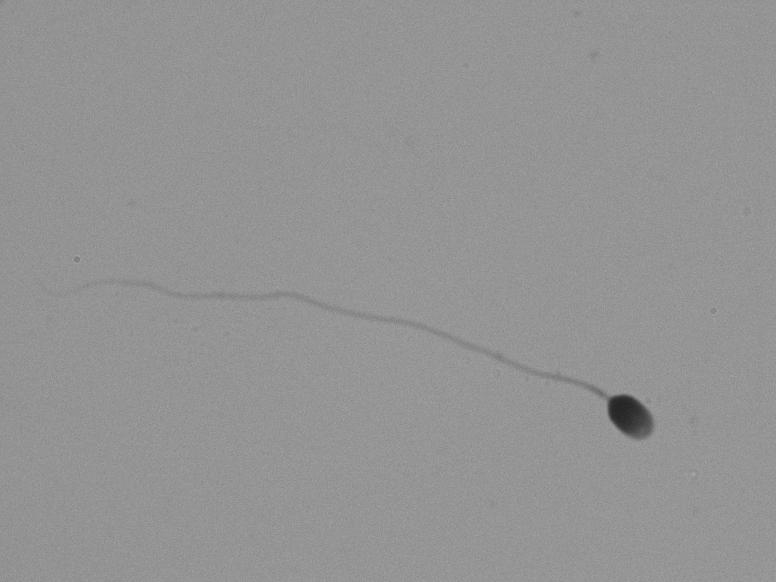Normal: (61, 175, 696, 502)
